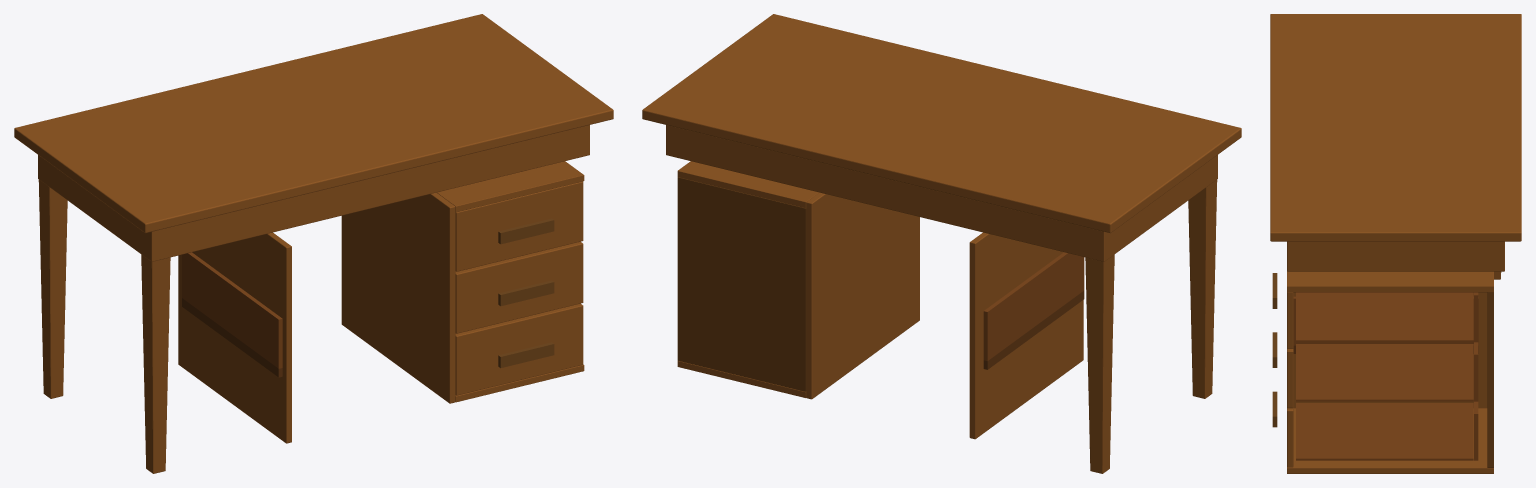
Rendered from Ashford_writing_desk.obj.
The picture shows the model from 3 angles, left to right: view 1: azimuth 30°, elevation 25°; view 2: azimuth 150°, elevation 25°; view 3: azimuth 270°, elevation 25°; orthographic projection. The views are drawn at different scales.
Visible parts, largest first — view 1: top, pedestal.side_1, apron.long_1, pedestal.side_2, drawer.front_1, drawer.front_2, drawer.front_3, drawer.side_2, leg_1, leg_2, pedestal.top, apron.short_1 (+5 smaller); view 2: top, pedestal.back, pedestal.side_1, apron.long_2, pedestal.side_2, leg_2, drawer.side_2, leg_1, apron.short_1, pedestal.top, drawer.runner_2, pedestal.bottom; view 3: top, drawer.base_1, drawer.base_2, drawer.base_3, apron.short_2, pedestal.top, pedestal.bottom, pedestal.side_1, pedestal.back, drawer.side_1, drawer.front_2, drawer.front_1 (+3 smaller).
Boxes of the visible parts, x1=… form: top: x1=14, y1=14, x2=613, y2=233; pedestal.side_1: x1=341, y1=192, x2=455, y2=403; apron.long_1: x1=158, y1=126, x2=583, y2=260; pedestal.side_2: x1=178, y1=232, x2=291, y2=443; drawer.front_1: x1=455, y1=303, x2=583, y2=395; drawer.front_2: x1=455, y1=241, x2=583, y2=333; drawer.front_3: x1=455, y1=181, x2=583, y2=271; drawer.side_2: x1=182, y1=252, x2=282, y2=368; leg_1: x1=141, y1=254, x2=170, y2=473; leg_2: x1=38, y1=179, x2=67, y2=398; pedestal.top: x1=436, y1=161, x2=584, y2=212; apron.short_1: x1=38, y1=155, x2=158, y2=261; top: x1=642, y1=14, x2=1241, y2=233; pedestal.back: x1=677, y1=177, x2=806, y2=391; pedestal.side_1: x1=806, y1=192, x2=919, y2=399; apron.long_2: x1=672, y1=126, x2=1097, y2=260; pedestal.side_2: x1=969, y1=232, x2=1083, y2=439; leg_2: x1=1085, y1=254, x2=1114, y2=473; drawer.side_2: x1=983, y1=252, x2=1084, y2=360; leg_1: x1=1188, y1=179, x2=1217, y2=398; apron.short_1: x1=1097, y1=155, x2=1217, y2=261; pedestal.top: x1=677, y1=161, x2=819, y2=207; drawer.runner_2: x1=983, y1=291, x2=1084, y2=369; pedestal.bottom: x1=677, y1=361, x2=806, y2=397; top: x1=1270, y1=14, x2=1521, y2=241; drawer.base_1: x1=1296, y1=403, x2=1473, y2=460; drawer.base_2: x1=1296, y1=344, x2=1473, y2=401; drawer.base_3: x1=1296, y1=292, x2=1473, y2=342; apron.short_2: x1=1287, y1=241, x2=1504, y2=271; pedestal.top: x1=1287, y1=271, x2=1493, y2=292; pedestal.bottom: x1=1287, y1=408, x2=1493, y2=473; pedestal.side_1: x1=1293, y1=292, x2=1487, y2=408; pedestal.back: x1=1487, y1=292, x2=1493, y2=467; drawer.side_1: x1=1293, y1=296, x2=1478, y2=345; drawer.front_2: x1=1287, y1=348, x2=1293, y2=408; drawer.front_1: x1=1287, y1=408, x2=1293, y2=467.
Size of the model in its own units: 1.4 by 0.75 by 0.68.
